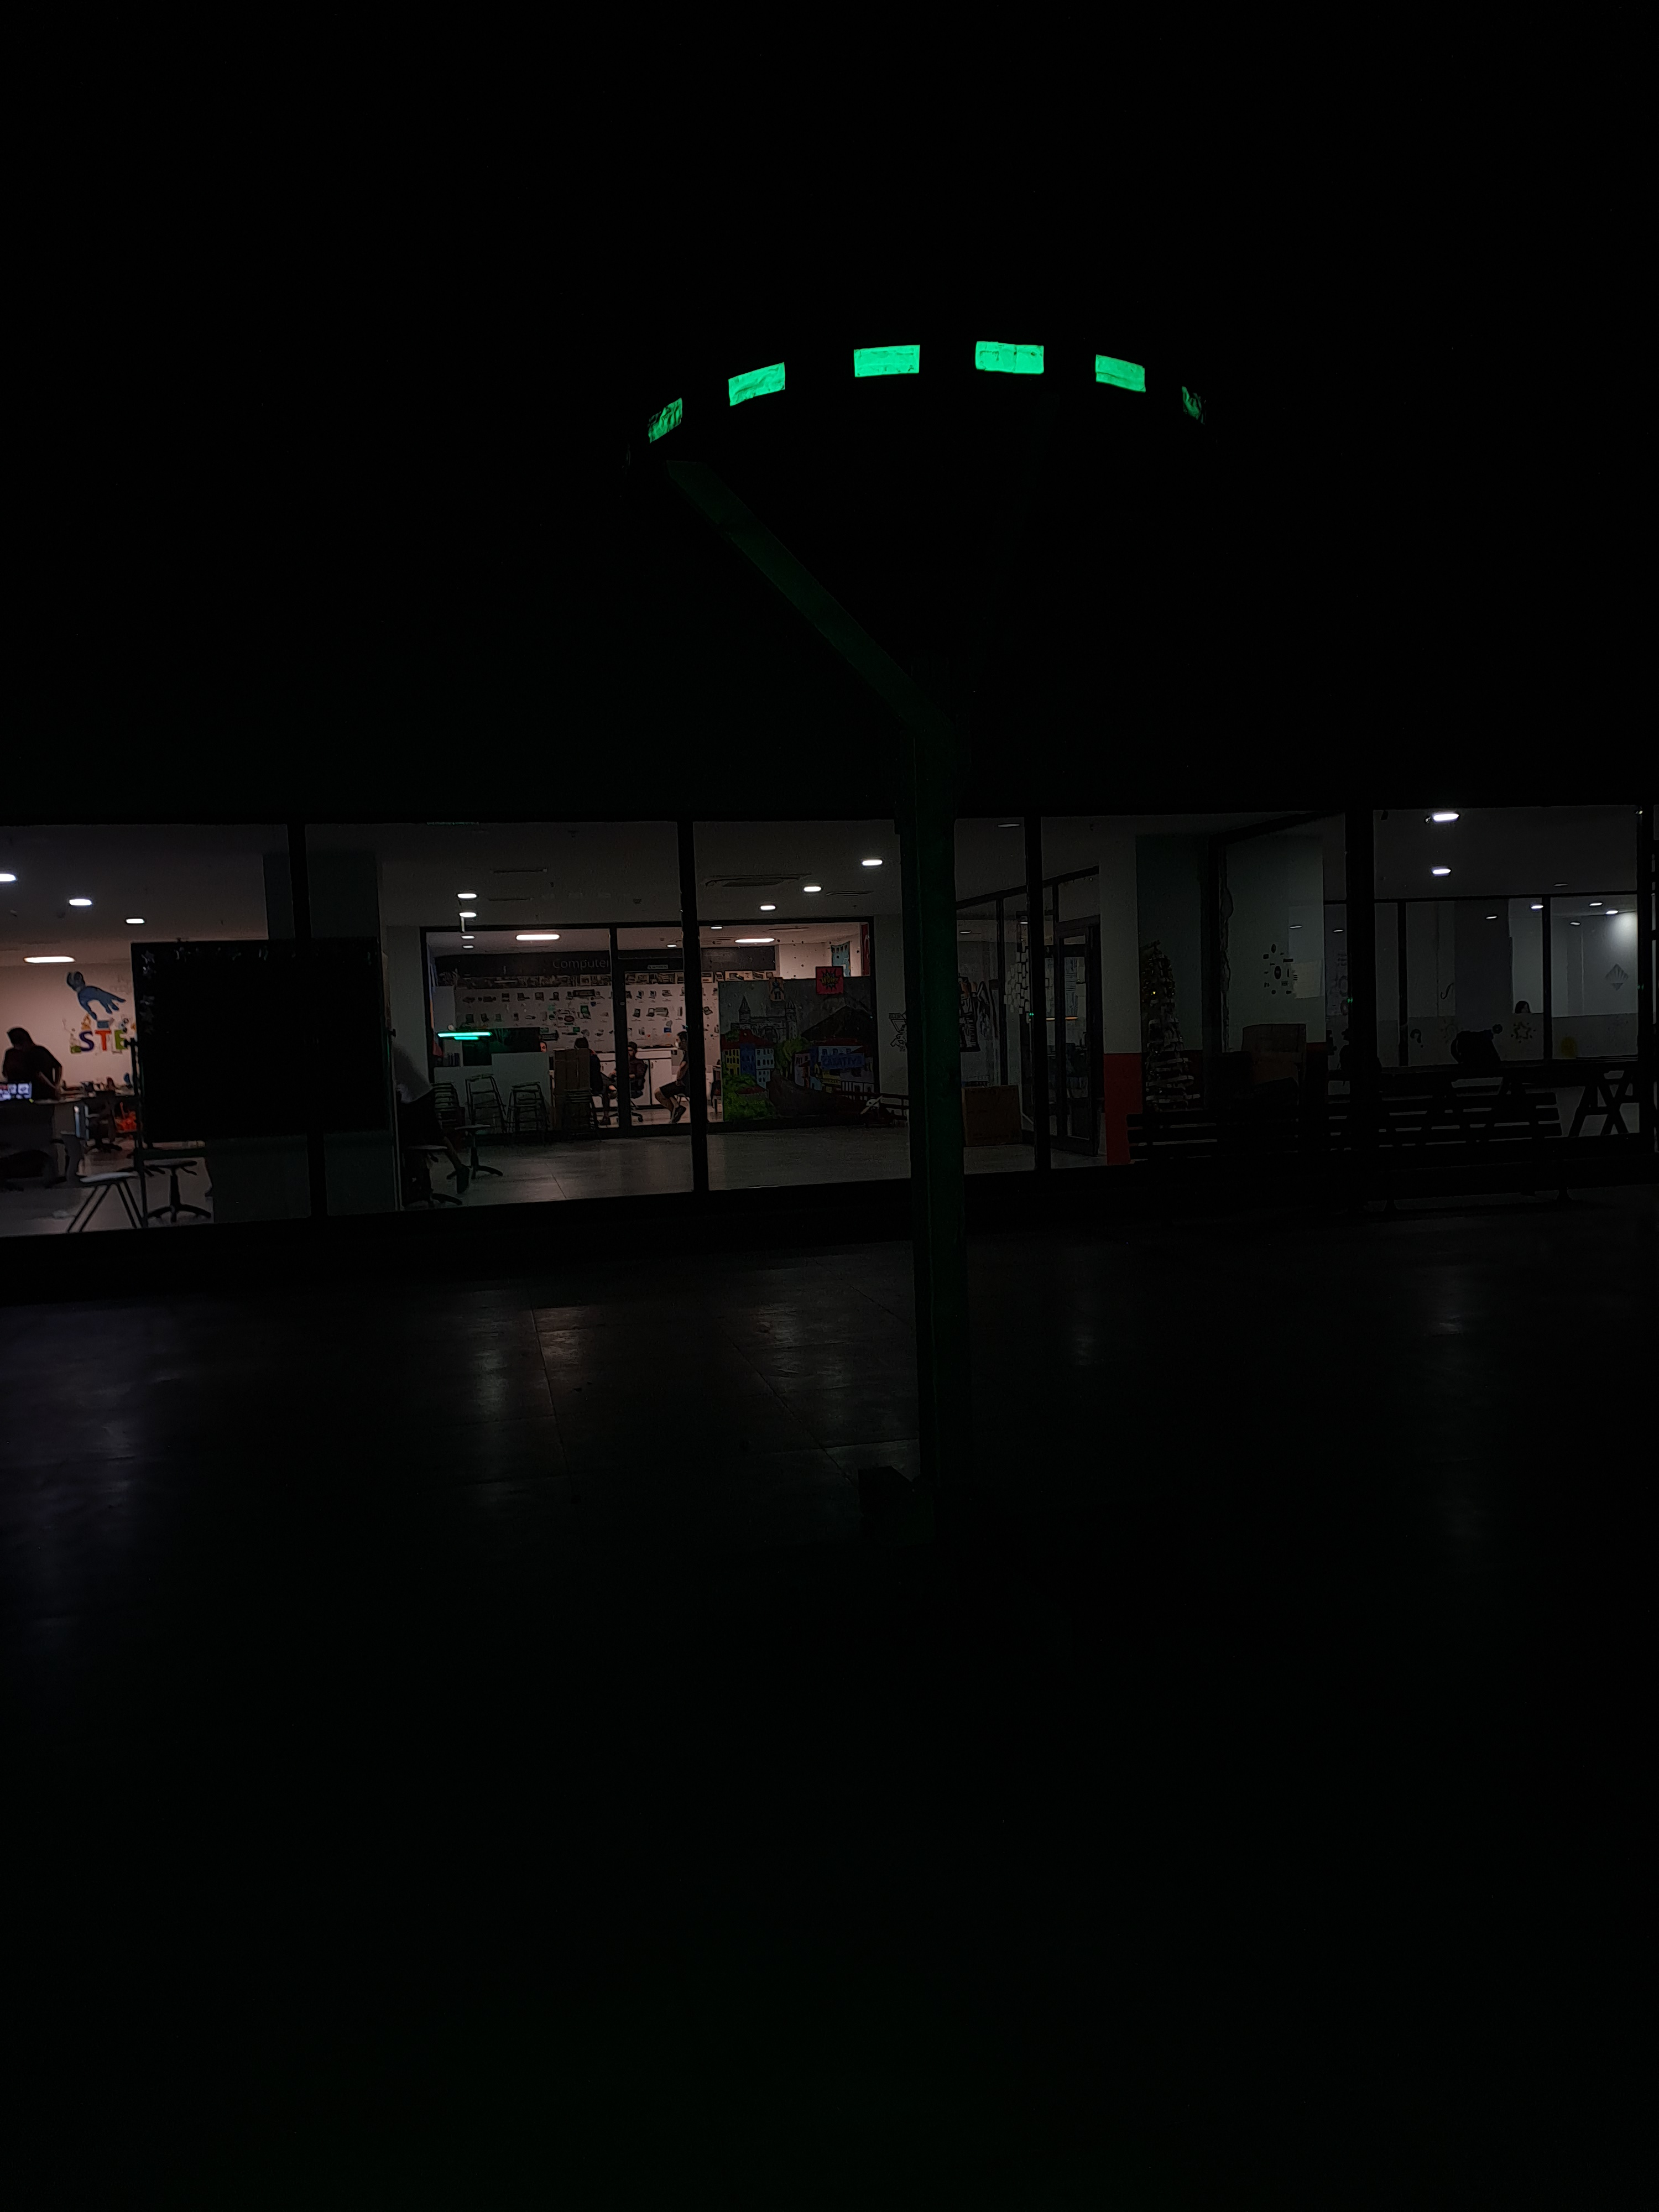hoop: (641, 334, 1209, 448)
